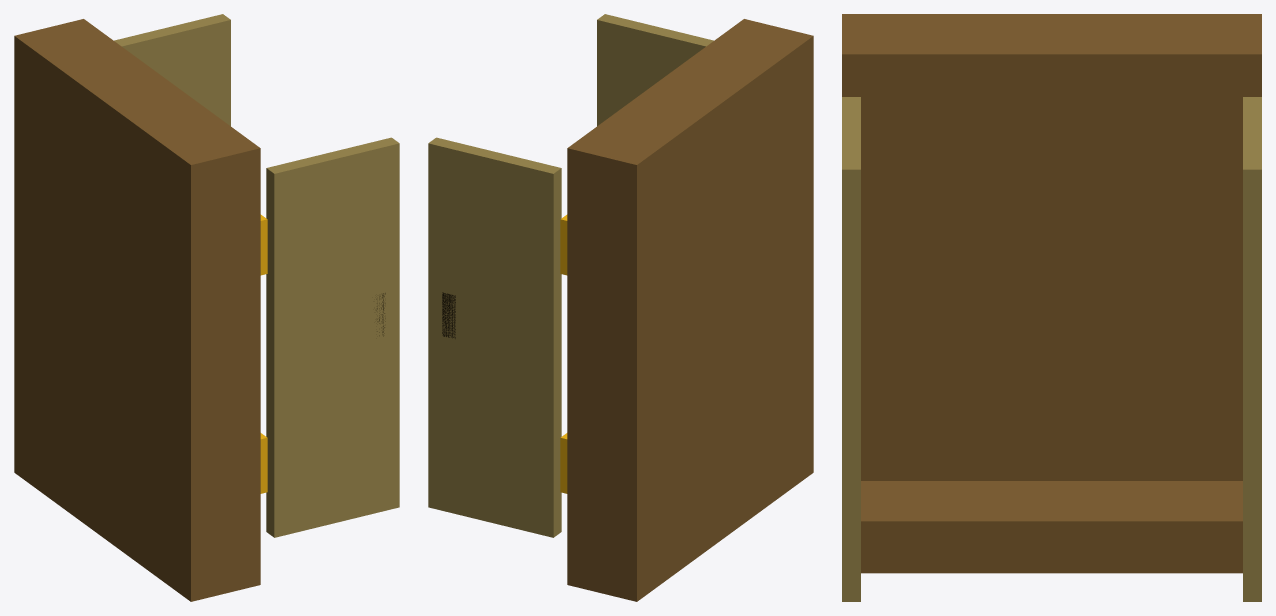
File: obj_large_open_cupboard_0.obj
3 renders of one model, left to right at view 1: azimuth 30°, elevation 25°; view 2: azimuth 150°, elevation 25°; view 3: azimuth 270°, elevation 25°, orthographic. The views are drawn at different scales.
Bounding box in the file's own units: 0.9375 × 1.88 × 1.38.
